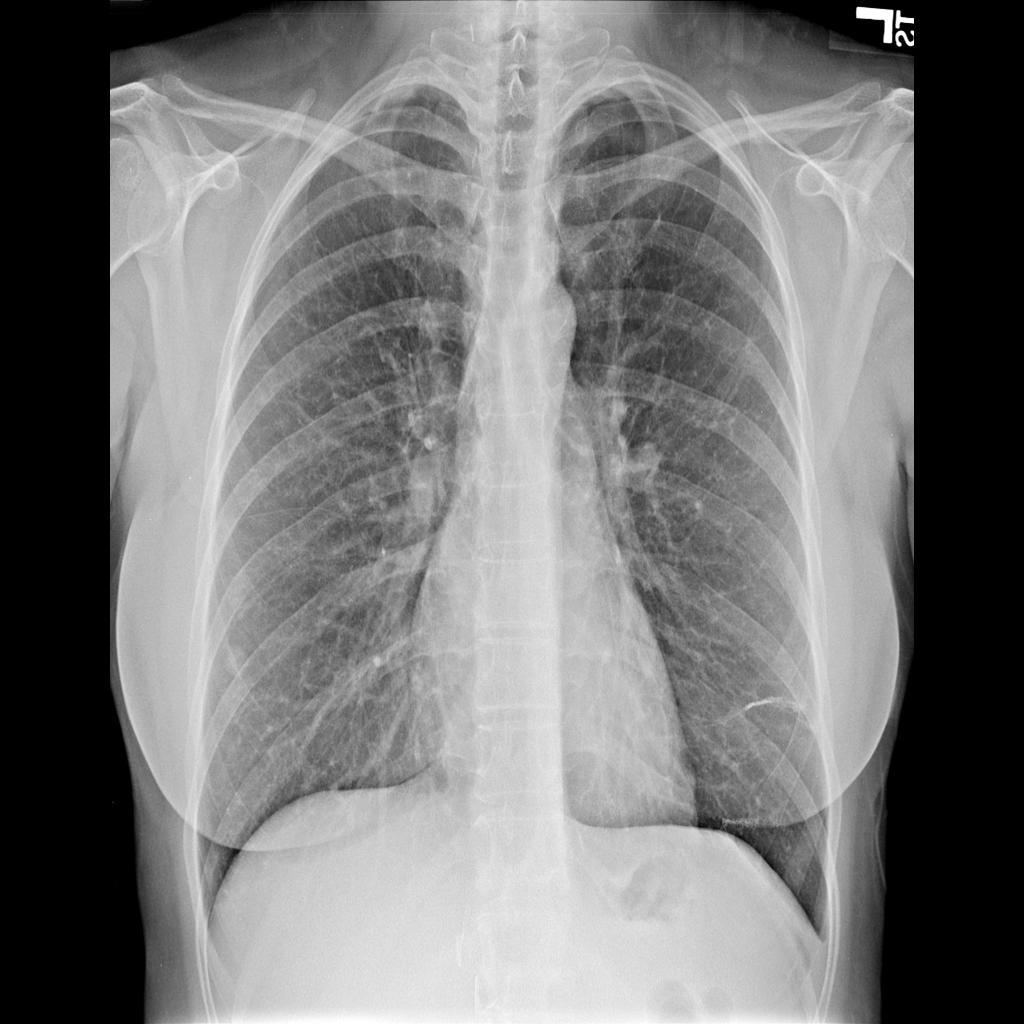Nodule: (224, 643, 251, 683)
